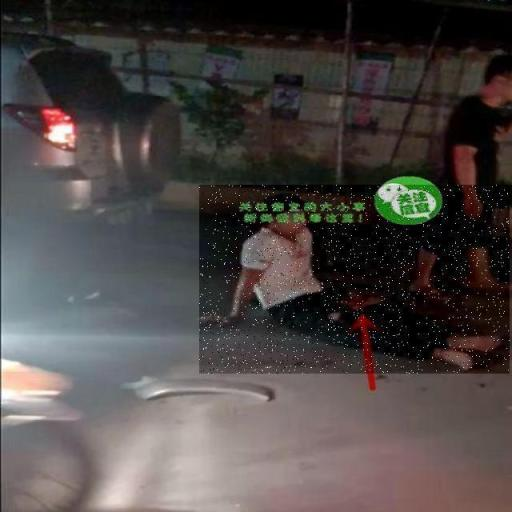Fall: (199, 185, 510, 374)
